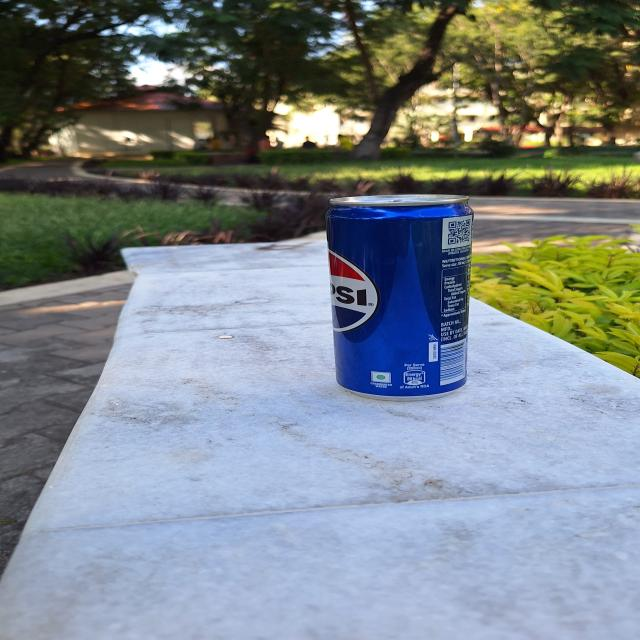Pepsi: (324, 196, 471, 396)
